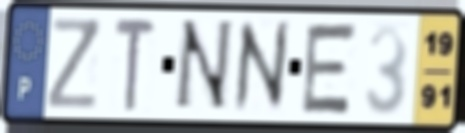3: (363, 21, 411, 118)
E: (297, 20, 361, 117)
N: (170, 17, 236, 114), (232, 17, 291, 117)
T: (112, 15, 158, 114)
Z: (46, 15, 103, 112)
